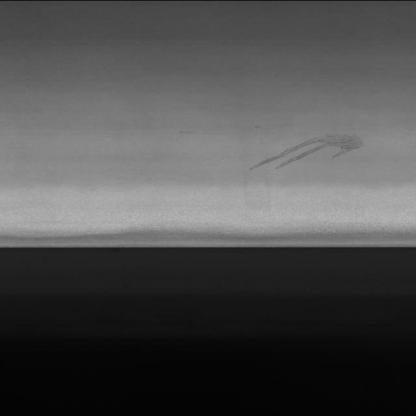water_spot: (244, 124, 375, 174)
